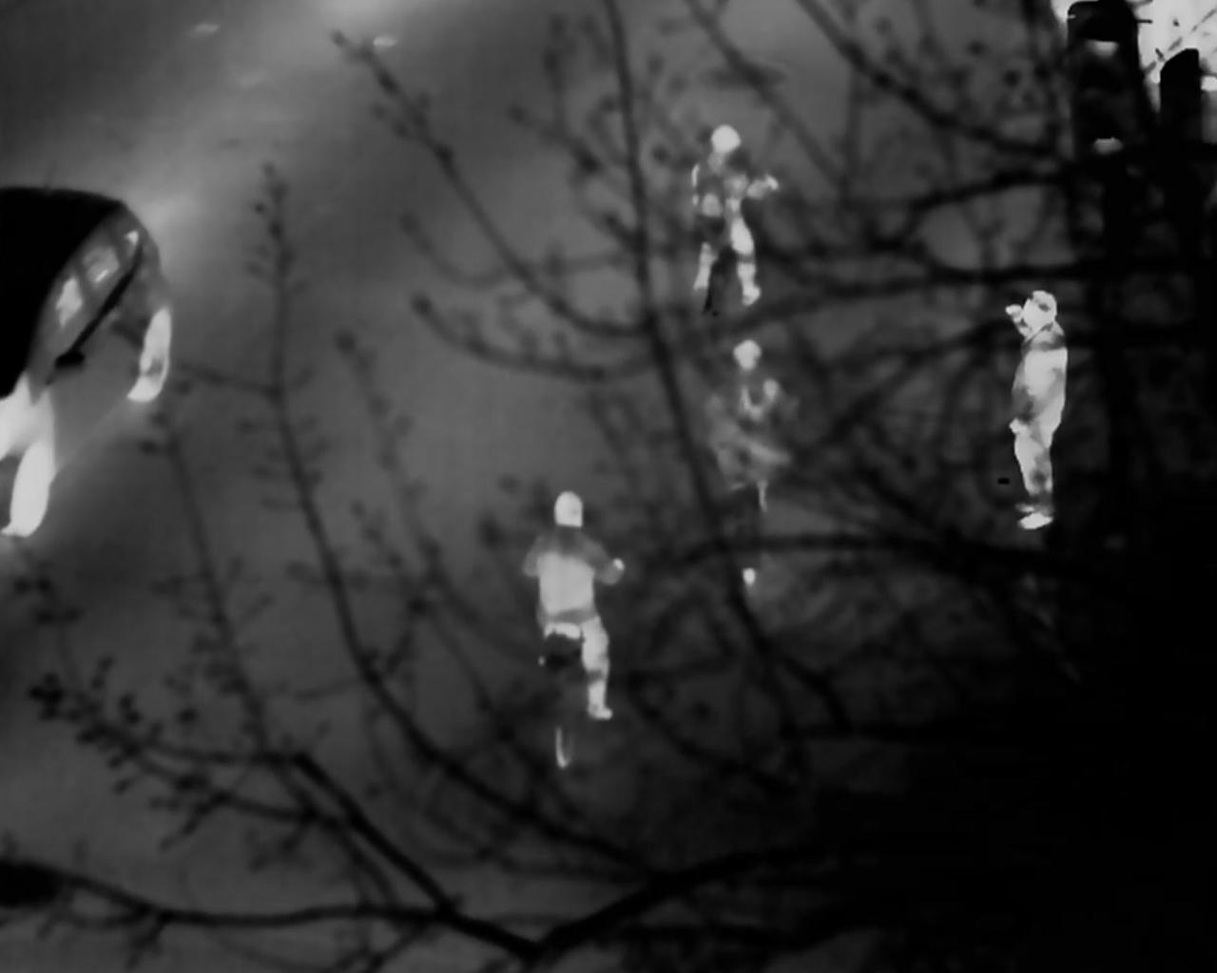person: (993, 293, 1085, 559), (528, 490, 622, 733), (679, 107, 766, 310), (724, 338, 796, 536)
